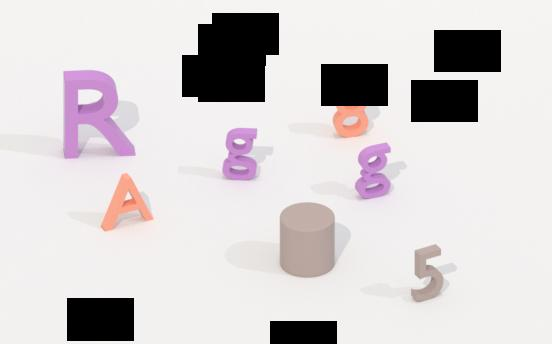5: (407, 243, 450, 303)
8: (329, 84, 372, 141)
A-hoa: (98, 170, 161, 236)
R-hoa: (60, 70, 140, 165)
g: (353, 140, 396, 200), (221, 126, 263, 182)
tru: (278, 201, 341, 283)
